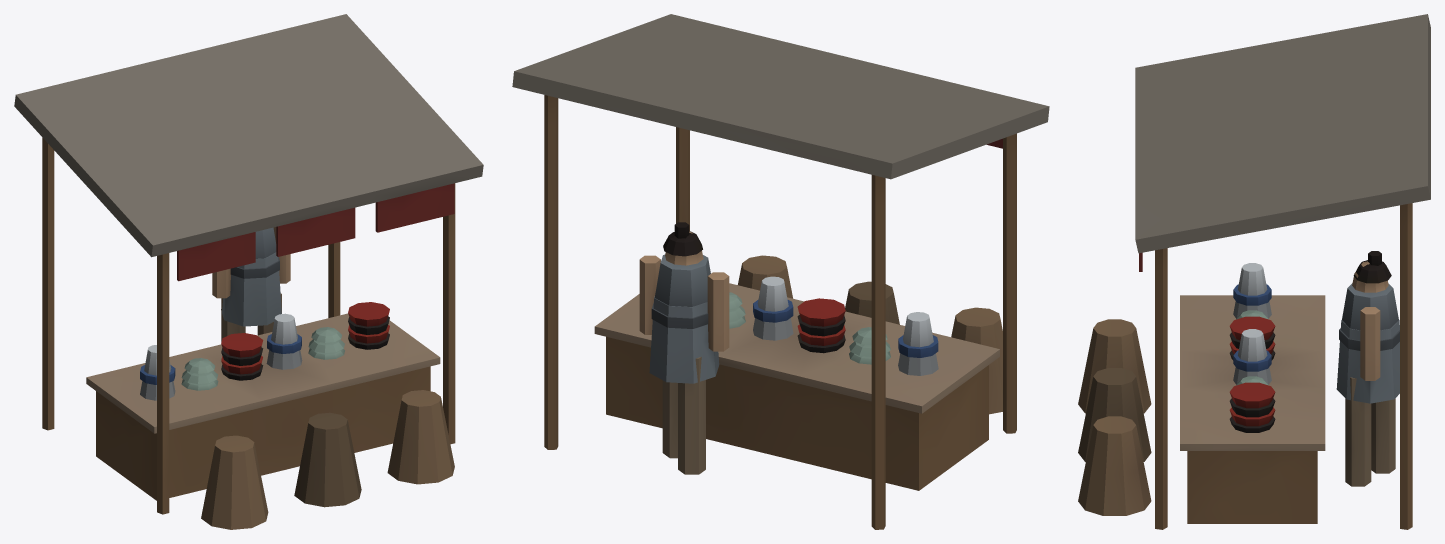
Rendered from stall-pots.glb.
3 views of the same model, side by side, from view 1: azimuth 30°, elevation 25°; view 2: azimuth 150°, elevation 25°; view 3: azimuth 270°, elevation 25° (orthographic). The views are drawn at different scales.
Visible parts, largest first — view 1: base; view 2: base; view 3: base.
Part boxes in pixels (box(x1,y1,x2,y2)): base: box(14, 14, 483, 529); base: box(512, 14, 1049, 529); base: box(1078, 14, 1430, 529).
Size of the model in its own units: 2.66 by 2.54 by 2.31.
